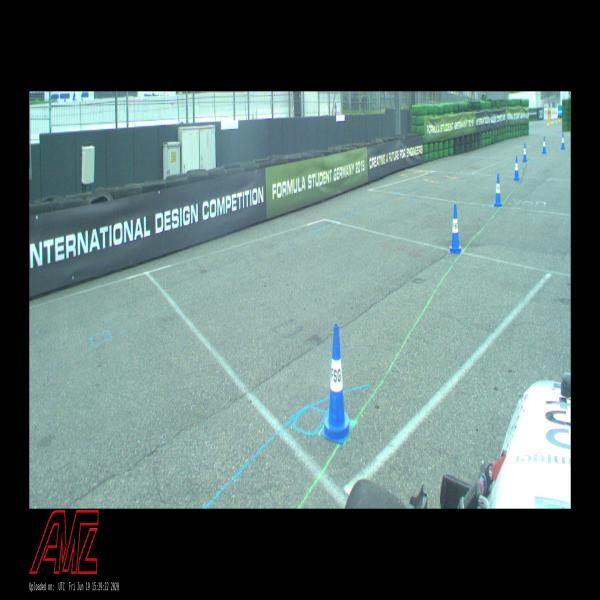blue_cone: (321, 323, 352, 445), (449, 204, 461, 254), (493, 173, 502, 207), (514, 156, 520, 182), (522, 143, 527, 162), (542, 136, 546, 155), (561, 133, 565, 150)
